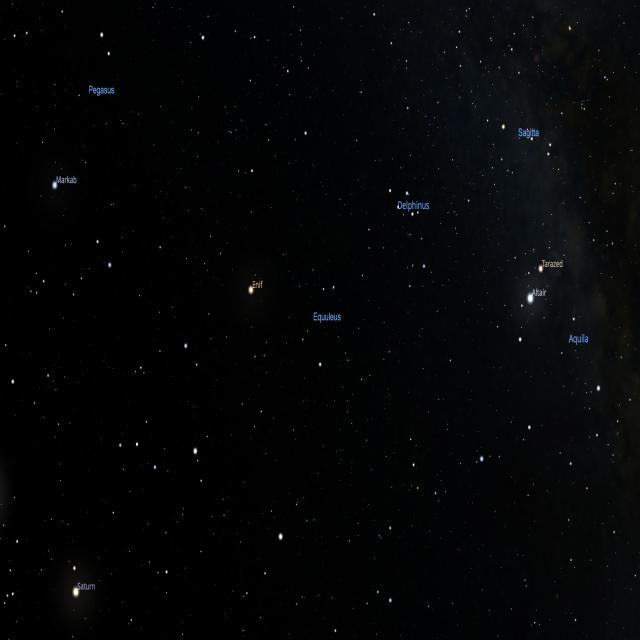Equuleus: (300, 279, 338, 373)
